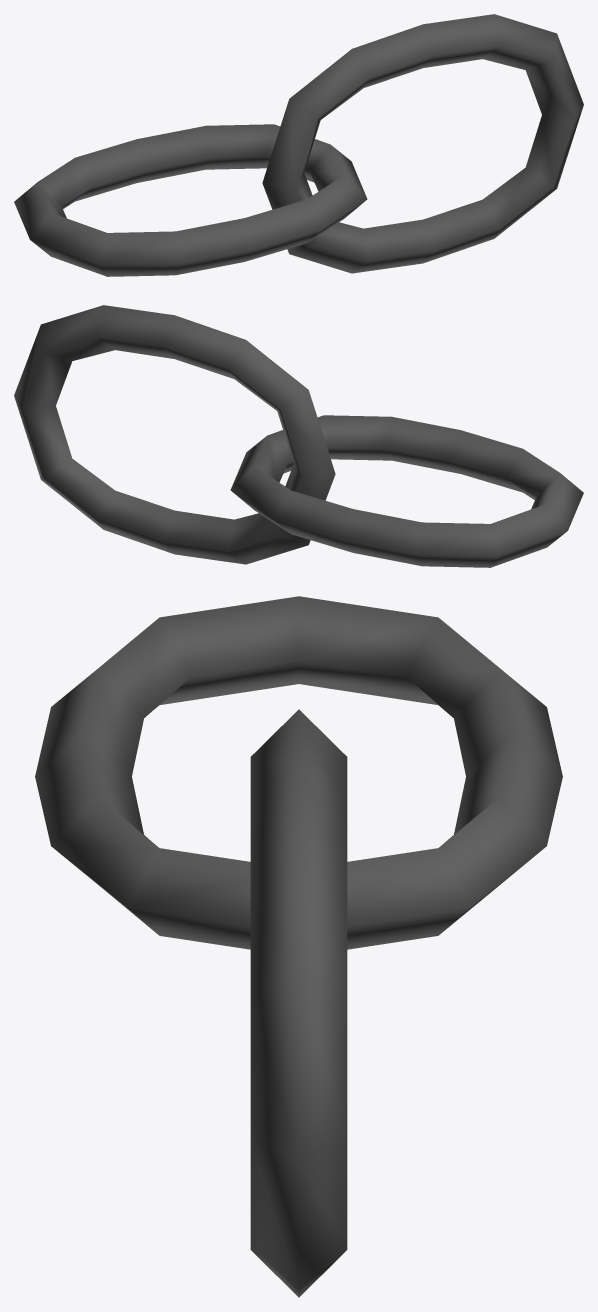
The model's file is chain_type_01.fbx.
3 renders of one model, top to bottom at view 1: azimuth 30°, elevation 25°; view 2: azimuth 150°, elevation 25°; view 3: azimuth 270°, elevation 25°, orthographic. The views are drawn at different scales.
Visible parts, largest first — view 1: chain_type_01; view 2: chain_type_01; view 3: chain_type_01.
Part boxes in pixels (x1,y1,x2,y2): chain_type_01: (14, 14, 583, 276); chain_type_01: (14, 305, 583, 567); chain_type_01: (35, 596, 562, 1297).
Size of the model in its own units: 34.59 by 14.27 by 14.27.
